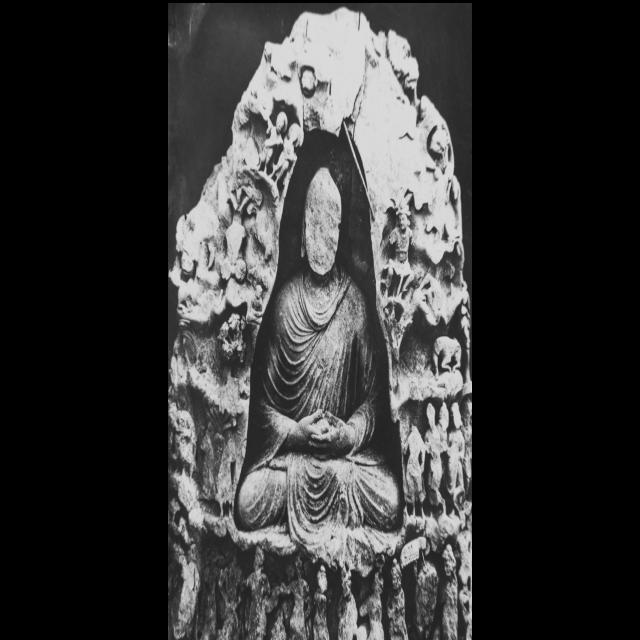buddha-sitting: (235, 169, 400, 555)
